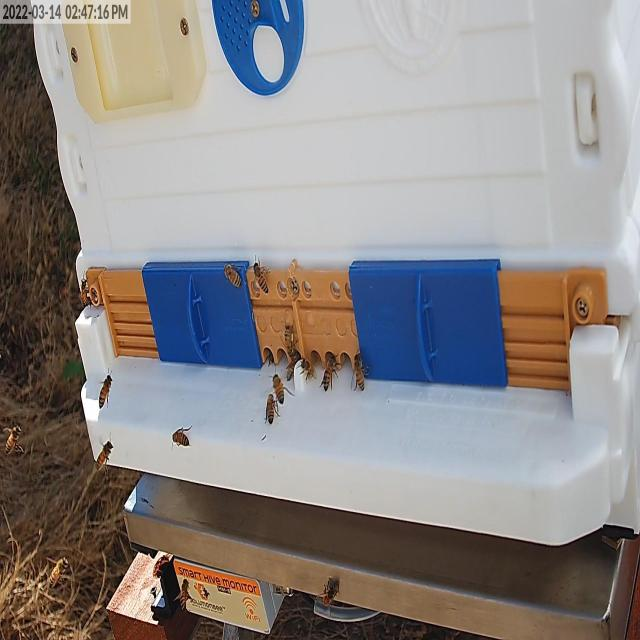honeybee: (352, 351, 368, 391), (298, 354, 317, 386), (319, 351, 336, 386), (4, 425, 23, 456), (252, 258, 268, 294), (98, 371, 112, 409), (92, 439, 109, 470), (318, 576, 334, 603), (170, 428, 190, 449), (273, 375, 287, 405), (50, 559, 66, 585), (222, 263, 240, 286), (264, 389, 275, 424), (284, 322, 300, 346), (180, 576, 192, 607), (287, 351, 298, 378), (80, 276, 88, 307)
